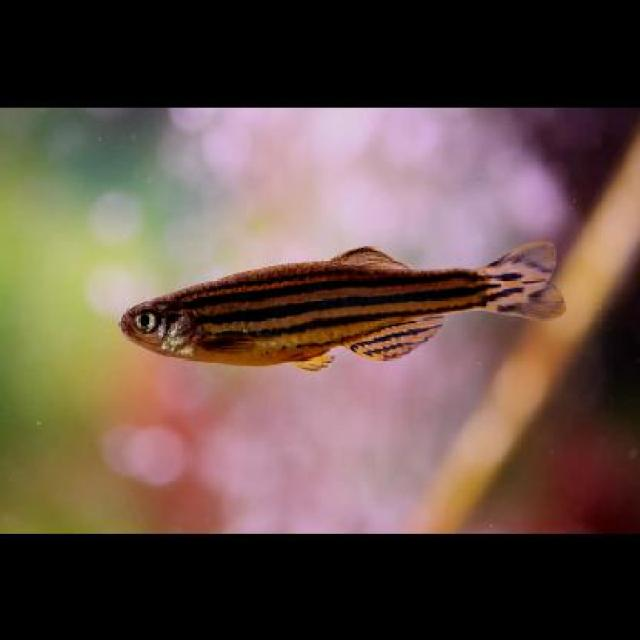ZebraFish: (114, 249, 566, 376)
